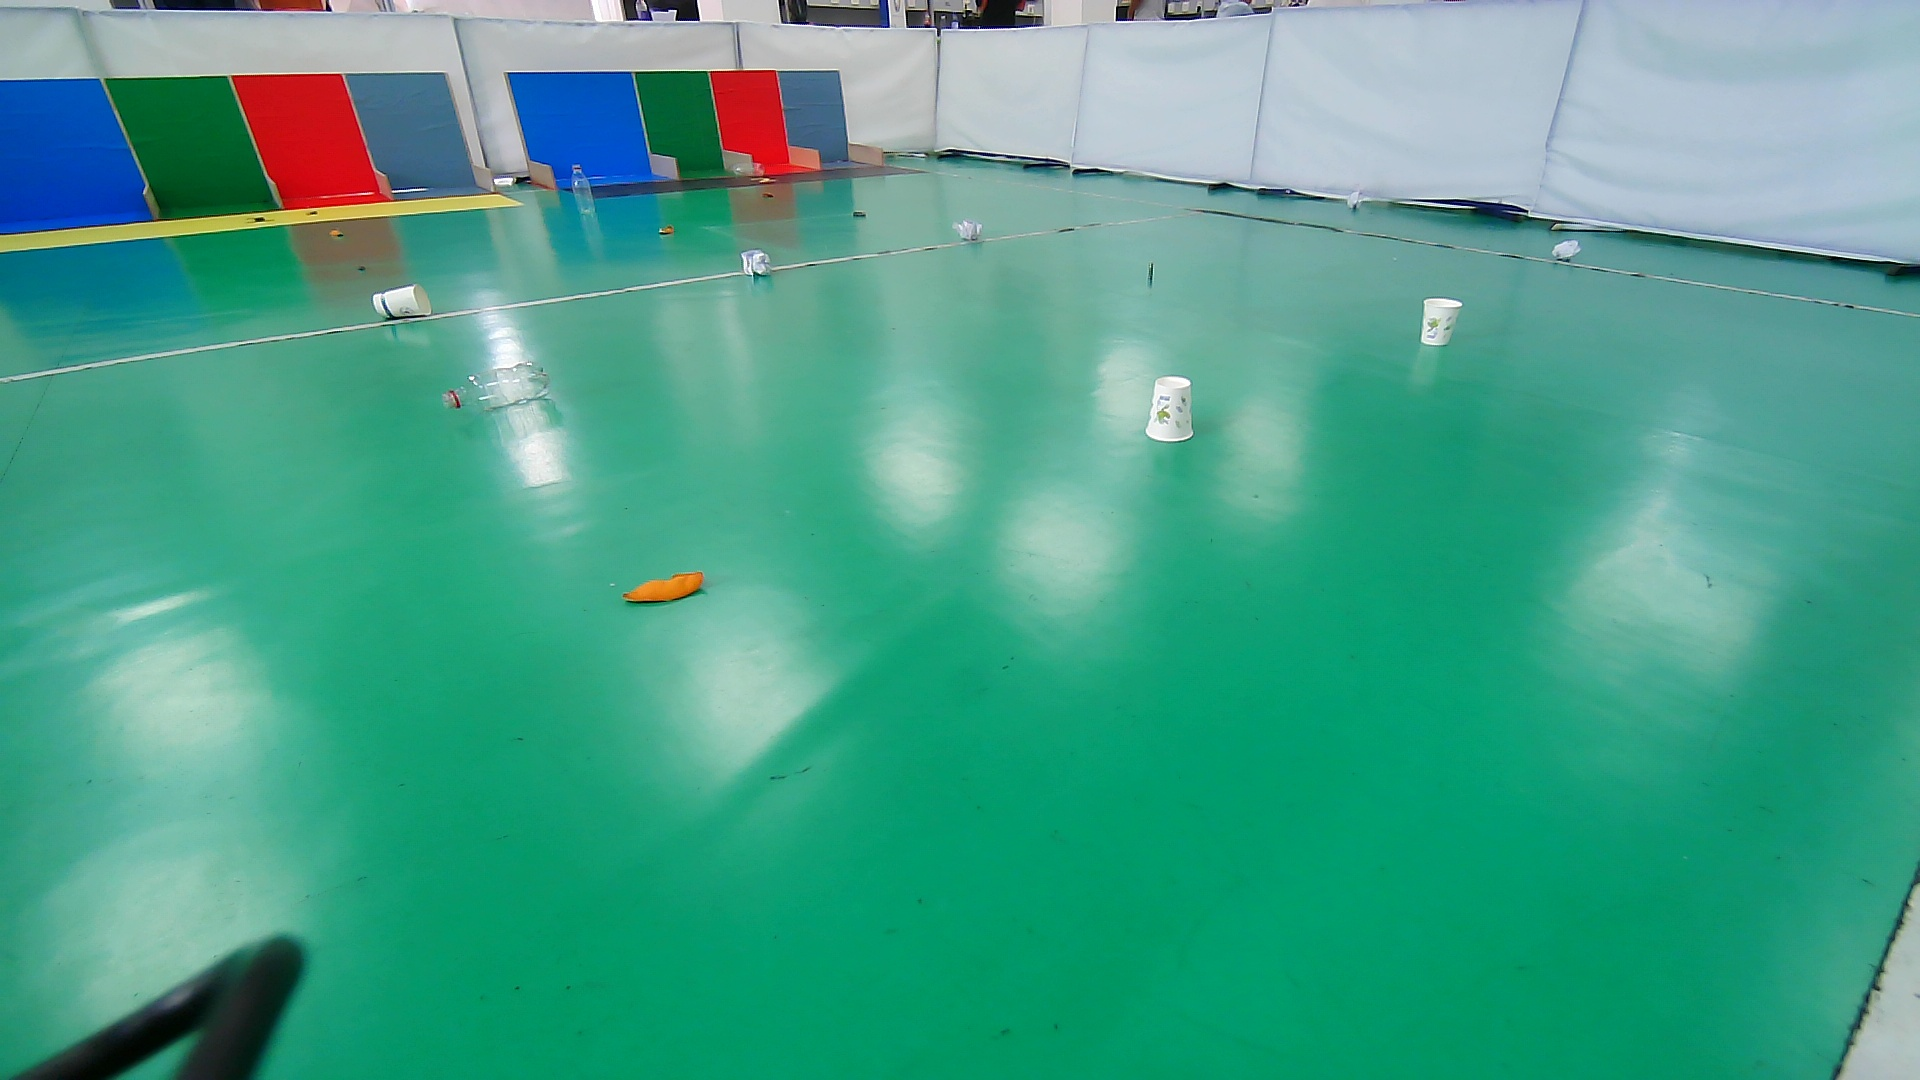battery: (1139, 255, 1163, 291), (847, 204, 876, 225)
bottle: (439, 357, 551, 418), (568, 160, 599, 222)
orangepeel: (616, 559, 708, 618), (654, 220, 679, 241), (323, 224, 351, 241)
papercup: (1137, 371, 1203, 448), (1408, 290, 1466, 353), (368, 281, 435, 319)
spitball: (738, 248, 774, 280), (1548, 237, 1582, 264), (953, 218, 984, 243)
